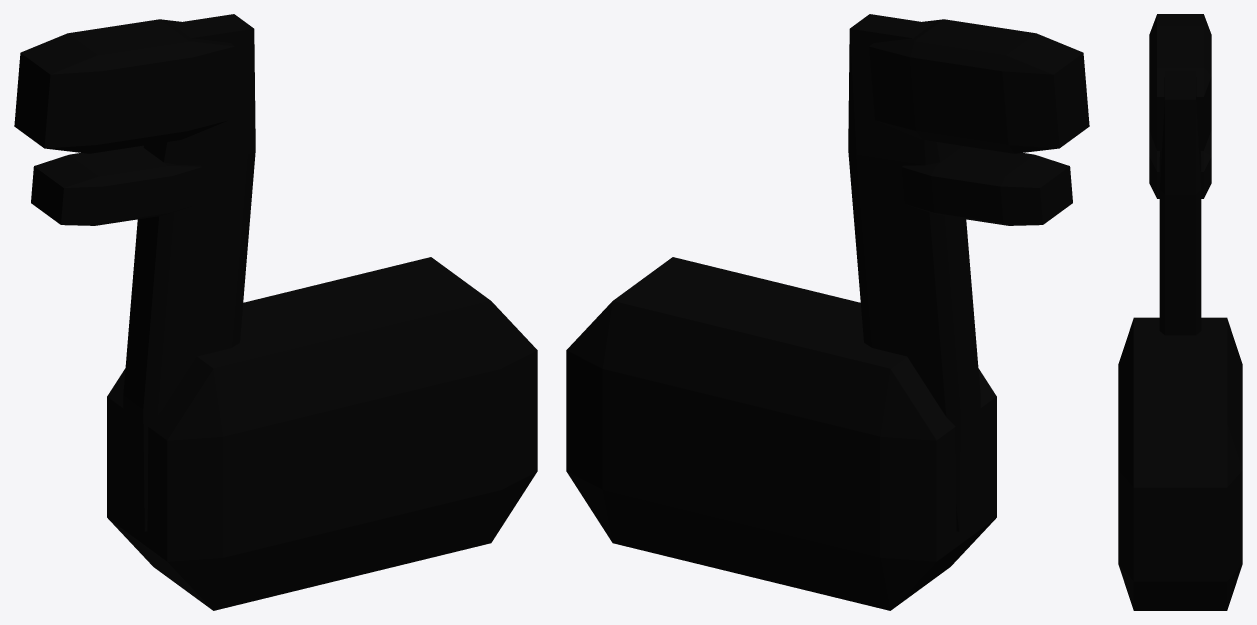
The model's file is P6_GameDesign_Note4.fbx.
The picture shows the model from 3 angles, left to right: view 1: azimuth 30°, elevation 25°; view 2: azimuth 150°, elevation 25°; view 3: azimuth 270°, elevation 25°; orthographic projection. The views are drawn at different scales.
Visible parts, largest first — view 1: beveled_cuboid_1, beveled_cuboid; view 2: beveled_cuboid_1, beveled_cuboid; view 3: beveled_cuboid_1, beveled_cuboid.
Part boxes in pixels (left/top/right/bottom): beveled_cuboid_1: left=107, top=257, right=537, bottom=610; beveled_cuboid: left=14, top=14, right=255, bottom=531; beveled_cuboid_1: left=566, top=257, right=996, bottom=610; beveled_cuboid: left=848, top=14, right=1089, bottom=531; beveled_cuboid_1: left=1118, top=317, right=1242, bottom=610; beveled_cuboid: left=1149, top=14, right=1211, bottom=335.
Size of the model in its own units: 129 by 147 by 37.5.
1 material, 1 textured.
